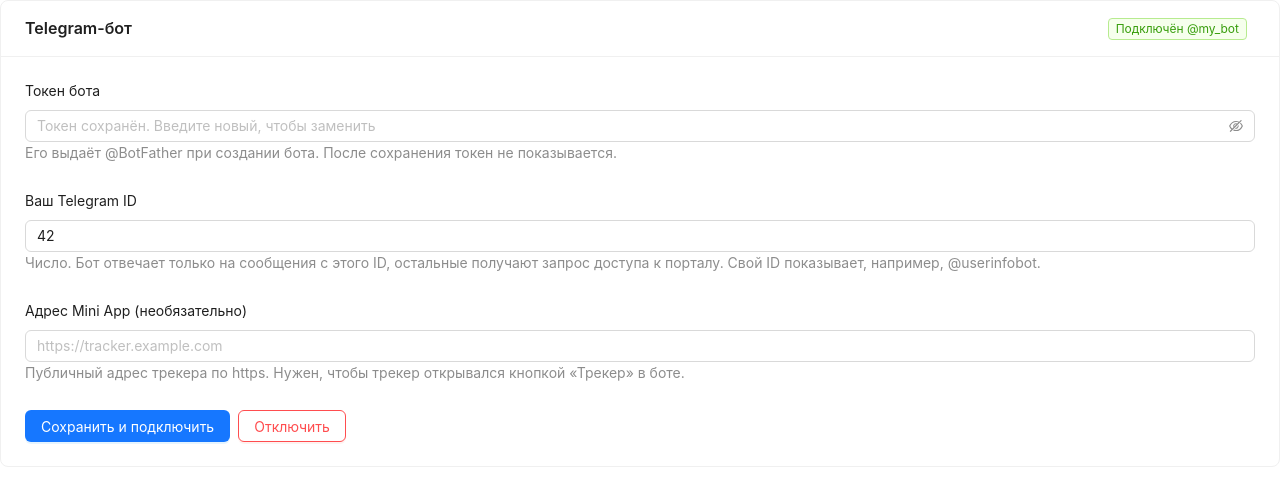
Test: Настройки: Telegram-бот › отключает бота после подтверждения
Step 1. Click the button "Отключить" → [292, 426], box top-left (238, 410), bottom-right (346, 442)
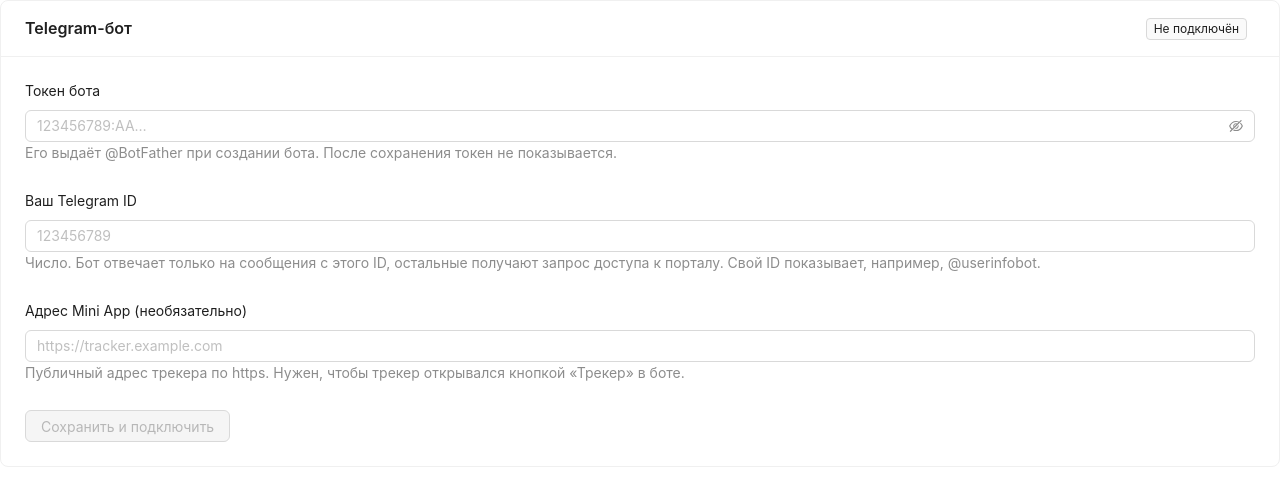
Expected: the text "Не подключён" is shown, top-left (1146, 18), bottom-right (1247, 40)
